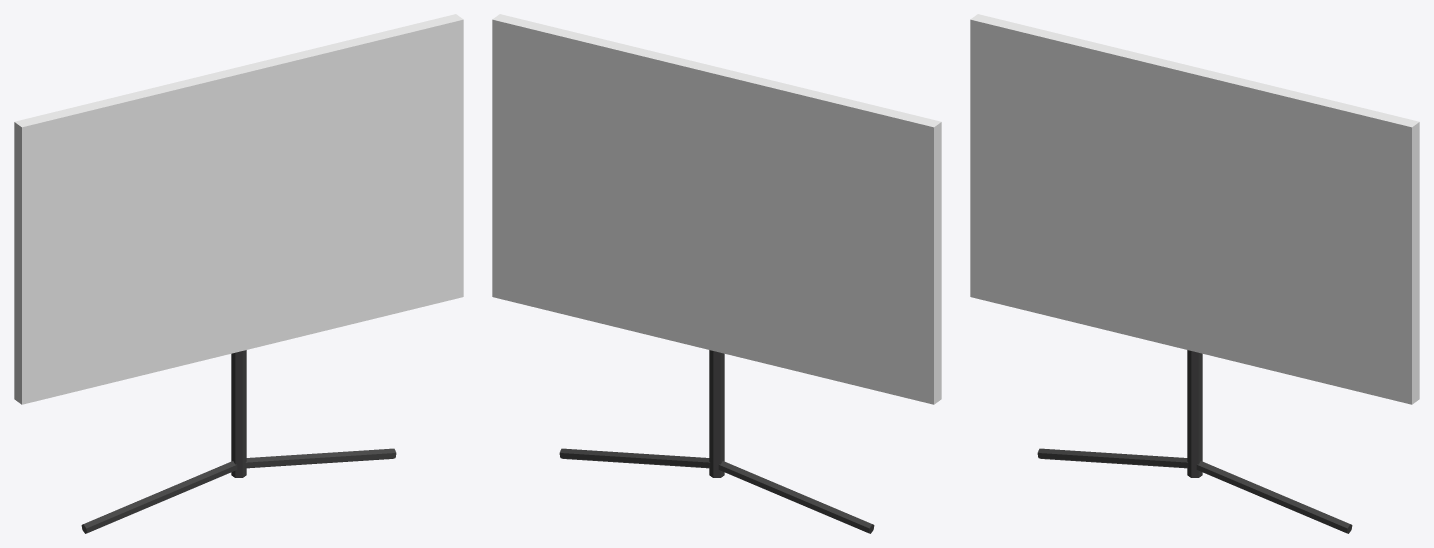
The picture shows the model from 3 angles, left to right: view 1: azimuth 30°, elevation 25°; view 2: azimuth 150°, elevation 25°; view 3: azimuth 330°, elevation 25°; orthographic projection.
Visible parts, largest first — view 1: Screen, Stand, Foot, Foot.001; view 2: Screen, Stand, Foot, Foot.001; view 3: Screen, Stand, Foot.001, Foot.
Part boxes in pixels (x1,y1,x2,y2): Screen: (14, 14, 463, 404); Stand: (231, 350, 246, 477); Foot: (81, 461, 237, 533); Foot.001: (245, 448, 396, 468); Screen: (492, 14, 941, 404); Stand: (709, 350, 724, 477); Foot: (718, 461, 874, 533); Foot.001: (559, 448, 710, 468); Screen: (970, 14, 1419, 404); Stand: (1187, 350, 1202, 477); Foot.001: (1196, 461, 1352, 533); Foot: (1037, 448, 1188, 468).
Size of the model in its own units: 200 by 184 by 6.
